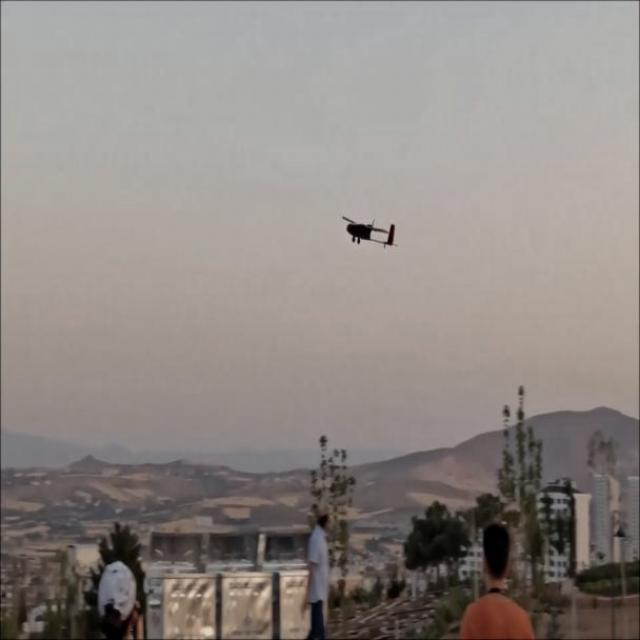iha: (338, 214, 402, 252)
